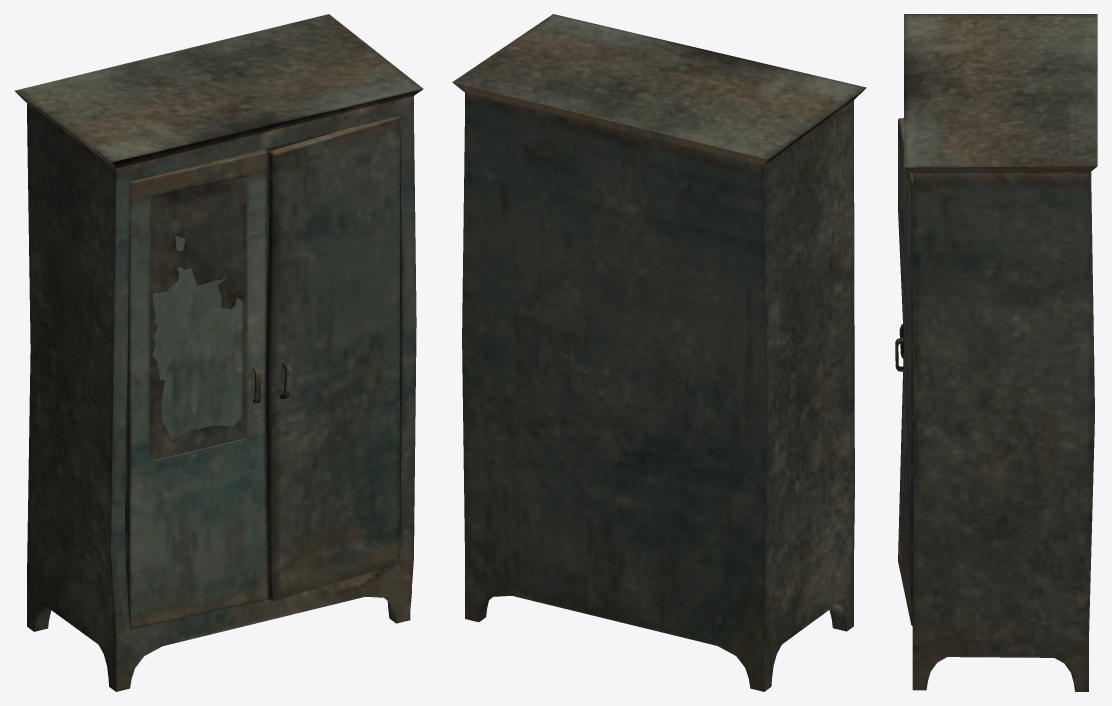
The model's file is Wardrobe_T01.FBX.
3 views of the same model, side by side, from view 1: azimuth 30°, elevation 25°; view 2: azimuth 150°, elevation 25°; view 3: azimuth 270°, elevation 25° (orthographic).
Parts seen in each view (by area): view 1: Wardrobe_T01, Door_01, Door_02; view 2: Wardrobe_T01; view 3: Wardrobe_T01, Door_02.
Part boxes in pixels (x1,y1,x2,y2): Wardrobe_T01: (14,14,423,691); Door_01: (127,149,268,629); Door_02: (265,116,399,600); Wardrobe_T01: (452,14,866,691); Wardrobe_T01: (904,14,1097,691); Door_02: (895,118,914,625).
Bounding box in the file's own units: 144 × 234 × 80.89.
